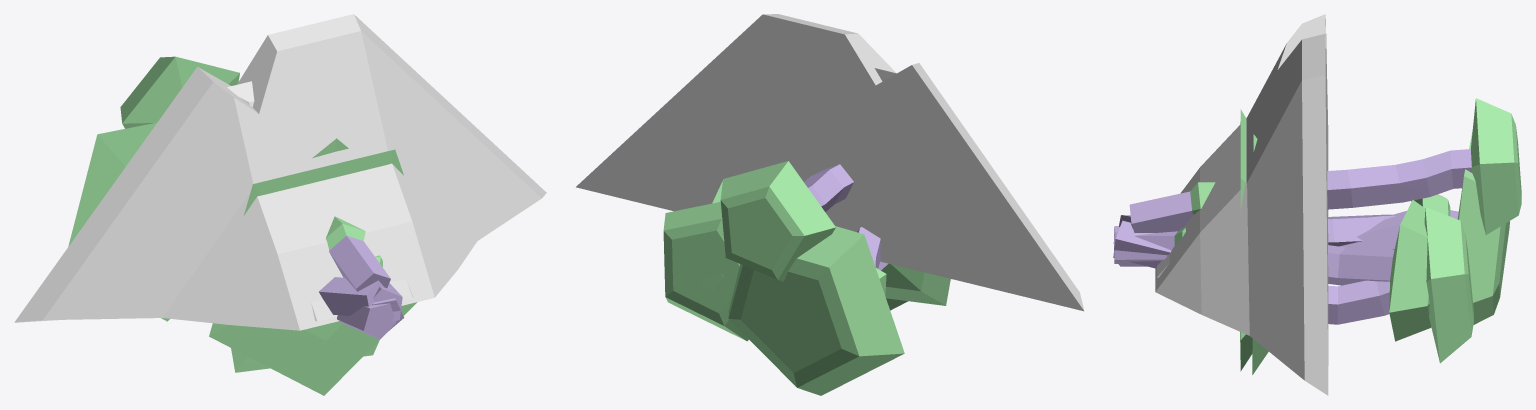
File: Mushrooms.fbx
3 views of the same model, side by side, from view 1: azimuth 30°, elevation 25°; view 2: azimuth 150°, elevation 25°; view 3: azimuth 270°, elevation 25° (orthographic). The views are drawn at different scales.
Visible parts, largest first — view 1: Oyster 2 Stage 4, Pearl Cap 1 Stage 2, Bright Shroom 2 Stage 0, Bright Shroom 2 Stage 3, Bright Shroom 1 Stage 3, Bright Shroom 1 Stage 0, Oyster 1 Stage 4, Pearl Cap 2 Stage 2, Bright Shroom 1 Stage 1; view 2: Oyster 2 Stage 4, Bright Shroom 1 Stage 3, Bright Shroom 2 Stage 3, Bright Shroom 2 Stage 2, Pearl Cap 2 Stage 2; view 3: Oyster 2 Stage 4, Bright Shroom 2 Stage 3, Bright Shroom 2 Stage 2, Bright Shroom 1 Stage 3, Bright Shroom 2 Stage 0, Bright Shroom 1 Stage 2, Bright Shroom 1 Stage 0, Pearl Cap 1 Stage 2, Pearl Cap 2 Stage 2.
Part boxes in pixels (x1=…): Oyster 2 Stage 4: x1=14, y1=14, x2=546, y2=330; Pearl Cap 1 Stage 2: x1=209, y1=149, x2=417, y2=395; Bright Shroom 2 Stage 0: x1=319, y1=216, x2=402, y2=321; Bright Shroom 2 Stage 3: x1=120, y1=56, x2=239, y2=128; Bright Shroom 1 Stage 3: x1=68, y1=122, x2=169, y2=321; Bright Shroom 1 Stage 0: x1=364, y1=255, x2=404, y2=339; Oyster 1 Stage 4: x1=227, y1=81, x2=412, y2=321; Pearl Cap 2 Stage 2: x1=231, y1=138, x2=379, y2=372; Bright Shroom 1 Stage 1: x1=337, y1=306, x2=377, y2=338; Oyster 2 Stage 4: x1=576, y1=14, x2=1084, y2=311; Bright Shroom 1 Stage 3: x1=712, y1=181, x2=904, y2=395; Bright Shroom 2 Stage 3: x1=663, y1=161, x2=886, y2=341; Bright Shroom 2 Stage 2: x1=700, y1=164, x2=880, y2=290; Pearl Cap 2 Stage 2: x1=881, y1=263, x2=950, y2=305; Oyster 2 Stage 4: x1=1155, y1=14, x2=1328, y2=395; Bright Shroom 2 Stage 3: x1=1411, y1=98, x2=1521, y2=363; Bright Shroom 2 Stage 2: x1=1327, y1=149, x2=1472, y2=324; Bright Shroom 1 Stage 3: x1=1389, y1=131, x2=1509, y2=341; Bright Shroom 2 Stage 0: x1=1113, y1=182, x2=1215, y2=268; Bright Shroom 1 Stage 2: x1=1328, y1=210, x2=1458, y2=285; Bright Shroom 1 Stage 0: x1=1113, y1=226, x2=1185, y2=266; Pearl Cap 1 Stage 2: x1=1240, y1=109, x2=1252, y2=371; Pearl Cap 2 Stage 2: x1=1252, y1=134, x2=1268, y2=374.
Bounding box in the file's own units: 822 × 491 × 549.
